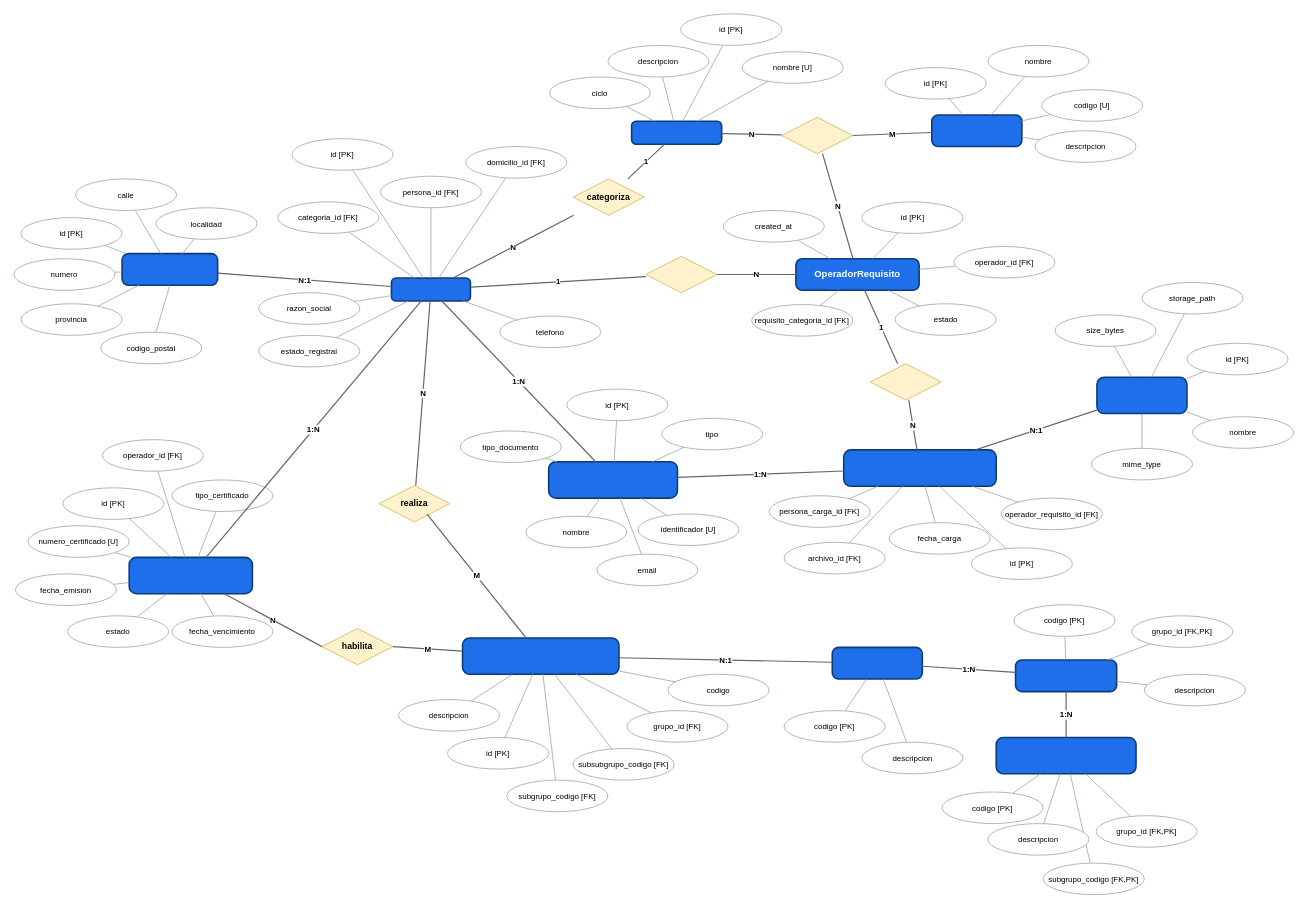
This 1307x909 diagram has some shape labels left out. Here are the shapes that lost their labels. From the top down, the centre of each, then its label:
pixel 676 132: Categoria
pixel 817 135: requiere
pixel 976 130: Requisito
pixel 169 269: Domicilio
pixel 430 289: Operador
pixel 681 274: cumple
pixel 905 381: documenta
pixel 1141 395: Archivo
pixel 612 479: Persona
pixel 920 468: DocumentoRequisito
pixel 190 575: Certificado
pixel 540 656: ActividadEconomica
pixel 877 662: GrupoActividad
pixel 1065 675: SubgrupoActividad
pixel 1065 755: SubSubgrupoActividad
